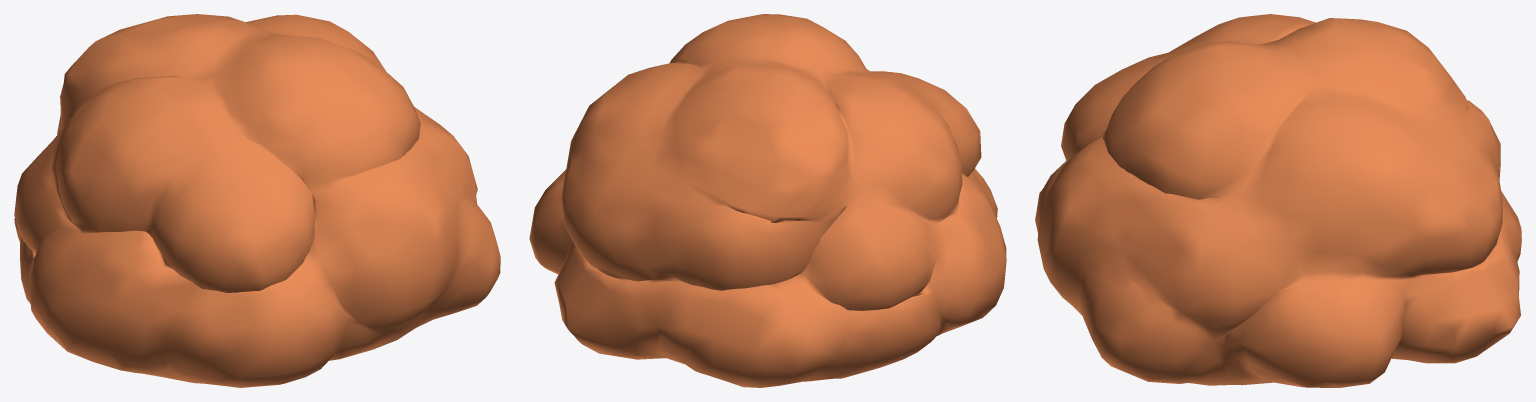
File: obj_resource_resin.fbx
3 renders of one model, left to right at view 1: azimuth 30°, elevation 25°; view 2: azimuth 150°, elevation 25°; view 3: azimuth 270°, elevation 25°, orthographic. The views are drawn at different scales.
Visible parts, largest first — view 1: Mball.029; view 2: Mball.029; view 3: Mball.029.
Boxes of the visible parts, <box> form: Mball.029: <box>14,14,500,387</box>; Mball.029: <box>529,14,1006,387</box>; Mball.029: <box>1035,14,1521,387</box>.
Size of the model in its own units: 2.1 by 1.35 by 2.02.
